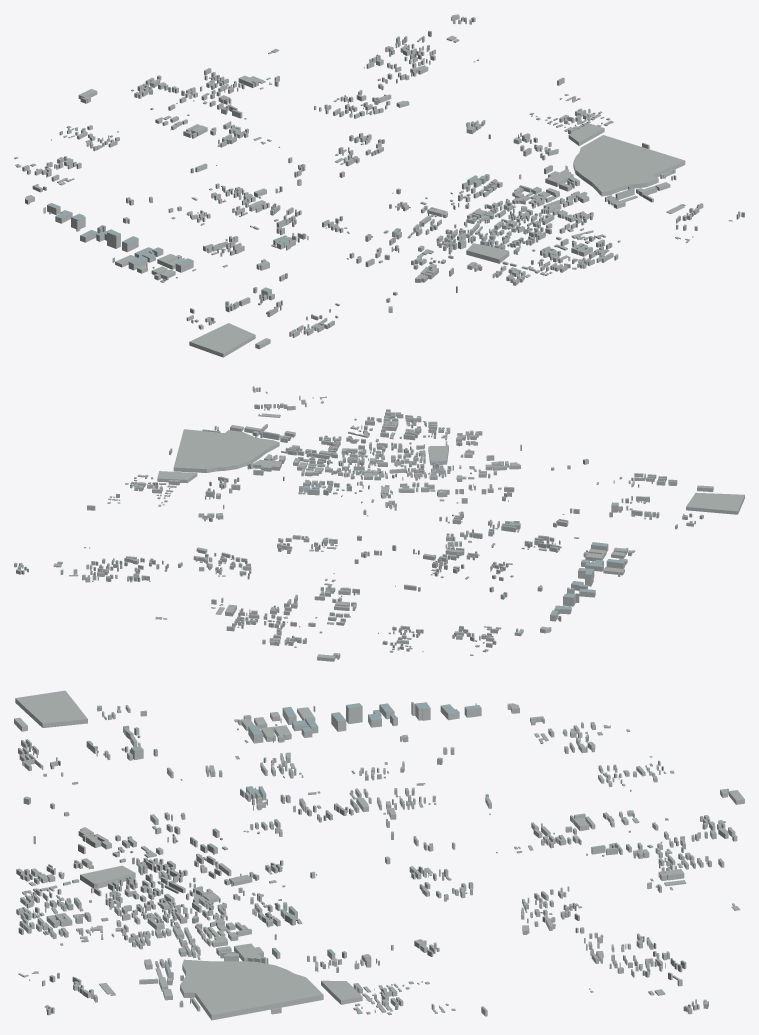
File: far.glb
The picture shows the model from 3 angles, top to bottom: view 1: azimuth 30°, elevation 25°; view 2: azimuth 150°, elevation 25°; view 3: azimuth 270°, elevation 25°; orthographic projection. The views are drawn at different scales.
Size of the model in its own units: 2234 by 50.38 by 2120.
